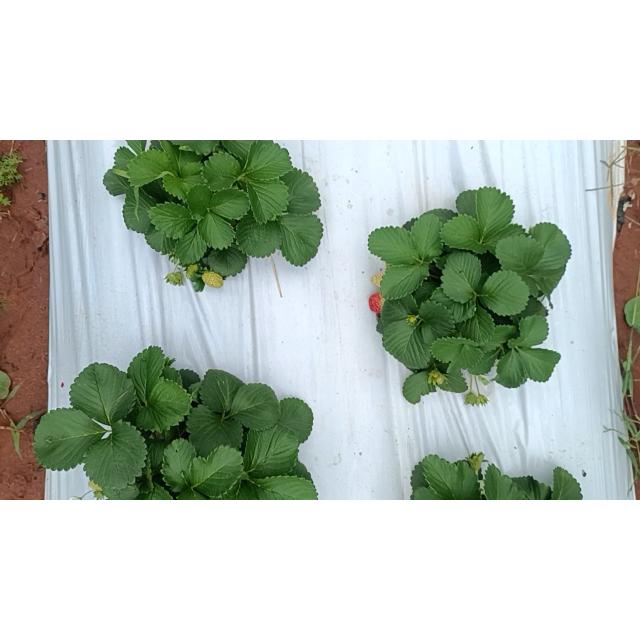maduro: (368, 291, 384, 313)
no-maduro: (201, 270, 223, 288), (370, 268, 386, 288), (185, 262, 201, 280)
